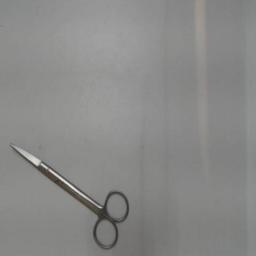Curved Mayo Scissors: (6, 140, 134, 256)
